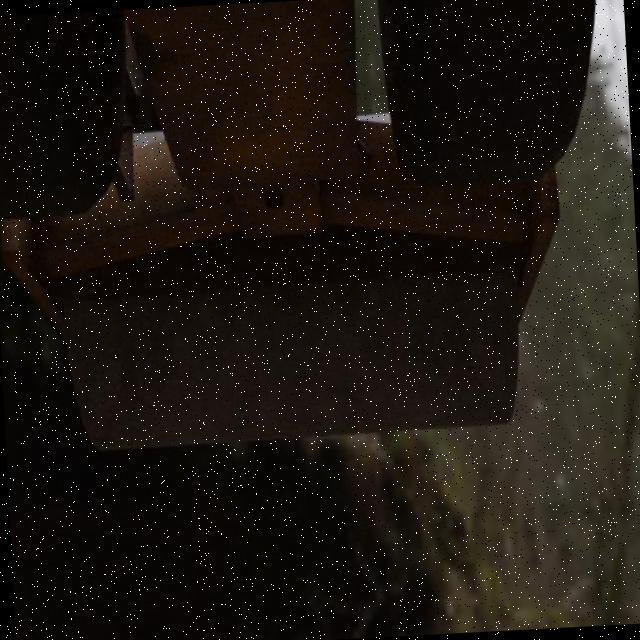Roller: (0, 0, 627, 457)
